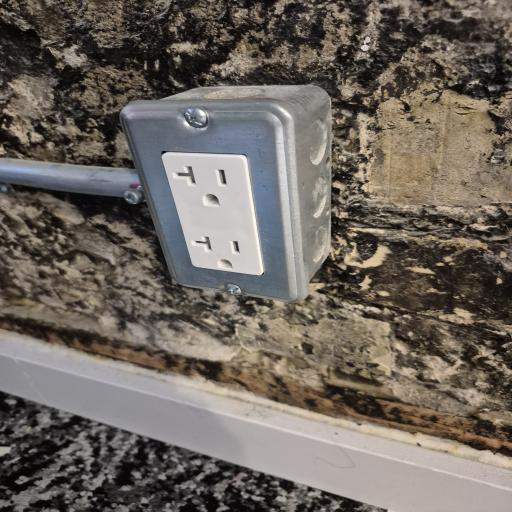outlet: (124, 109, 304, 300)
